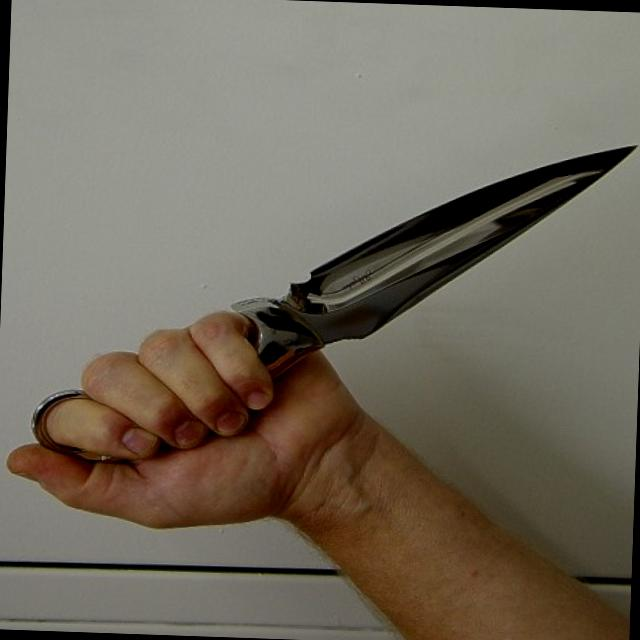knife: (162, 117, 638, 465)
